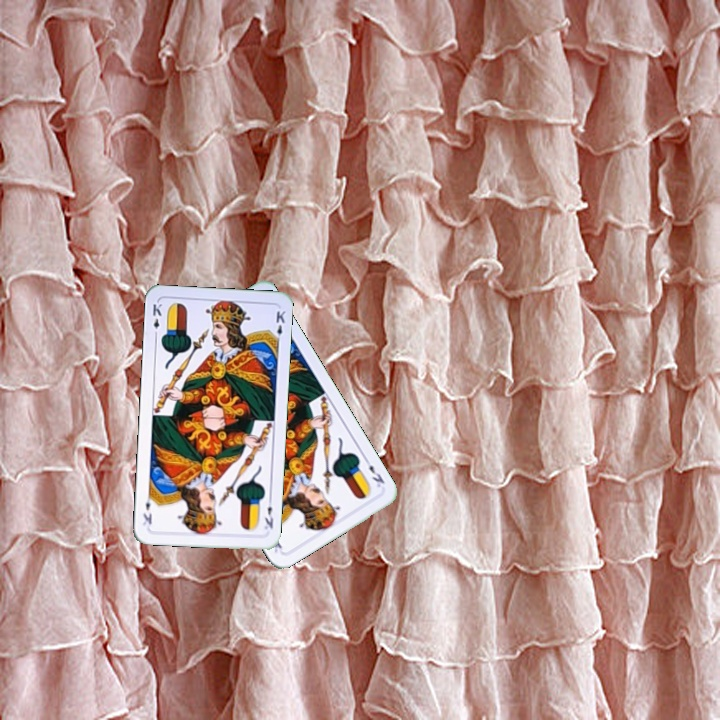EK: (360, 454, 387, 490), (149, 300, 165, 340), (261, 494, 276, 532)
